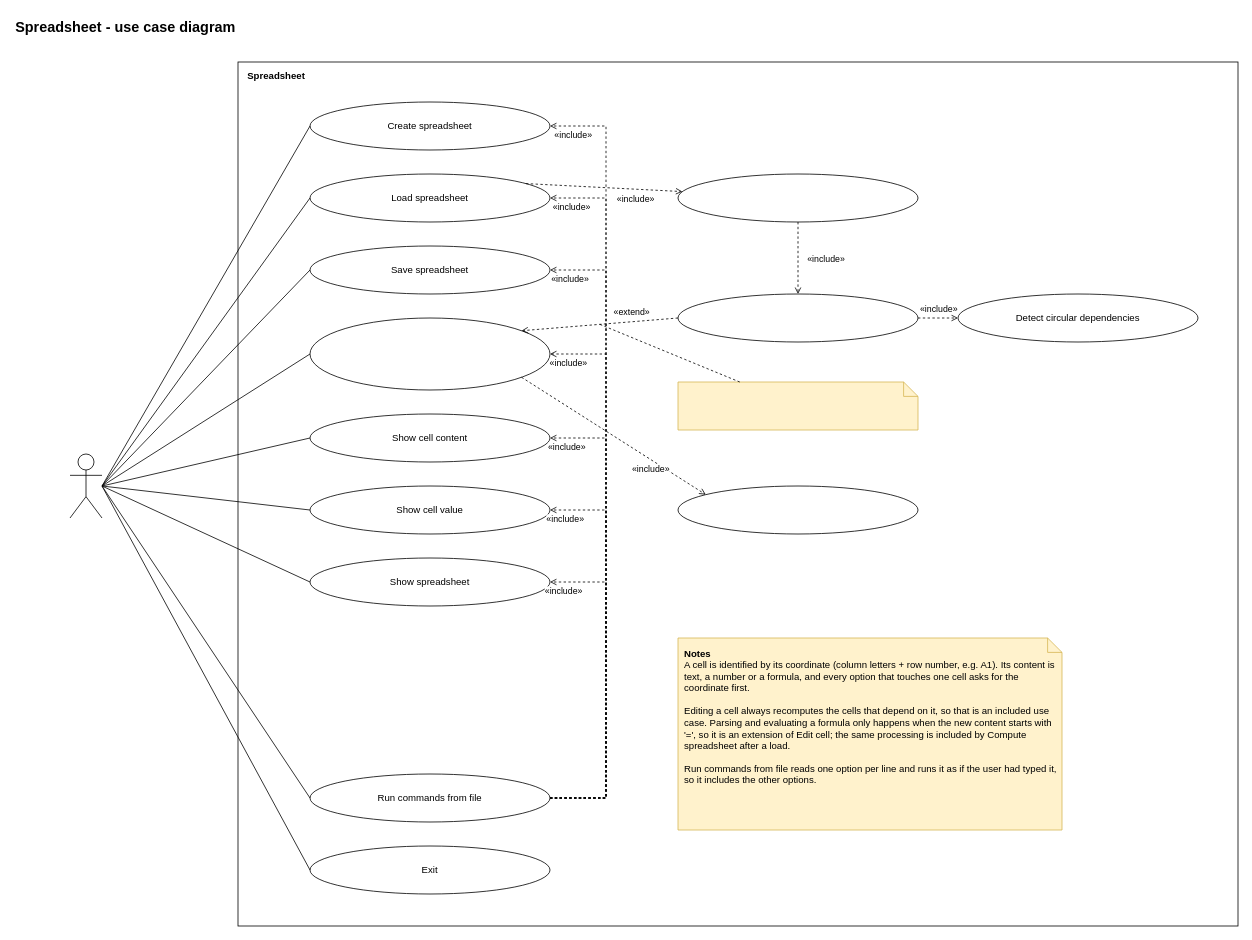
Image size: 1252x940. Some labels were removed from this diagram. Each missing label, with the centre of its shape:
"Compute spreadsheet" belongs at point (797, 197).
"Condition: {content starts with '='} extension point: content type" belongs at point (797, 405).
"Edit cell extension points content type" belongs at point (429, 353).
"Process formula" belongs at point (797, 317).
"Update dependent cells" belongs at point (797, 509).
"User" belongs at point (85, 485).
